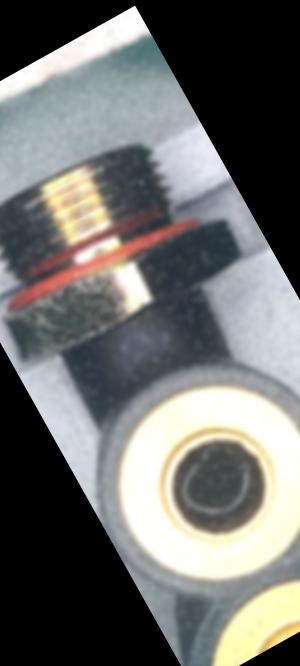bump: (295, 421, 300, 490)
joint line: (133, 330, 161, 367)
off-centered: (160, 431, 271, 533)
white mark: (110, 320, 138, 355), (127, 314, 145, 332)
